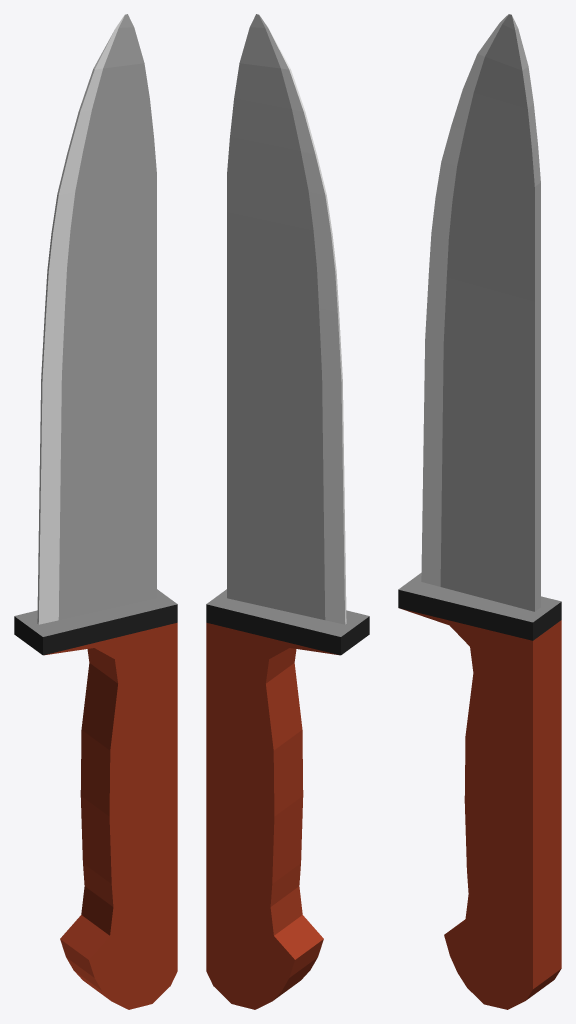
The model's file is Knife.fbx.
3 views of the same model, side by side, from view 1: azimuth 30°, elevation 25°; view 2: azimuth 150°, elevation 25°; view 3: azimuth 330°, elevation 25° (orthographic).
Parts seen in each view (by area): view 1: Knife; view 2: Knife; view 3: Knife.
Part boxes in pixels (left/top/right/bottom): Knife: left=14, top=14, right=177, bottom=1009; Knife: left=206, top=14, right=369, bottom=1009; Knife: left=398, top=14, right=561, bottom=1009.
Bounding box in the file's own units: 71.52 × 498 × 26.47.
